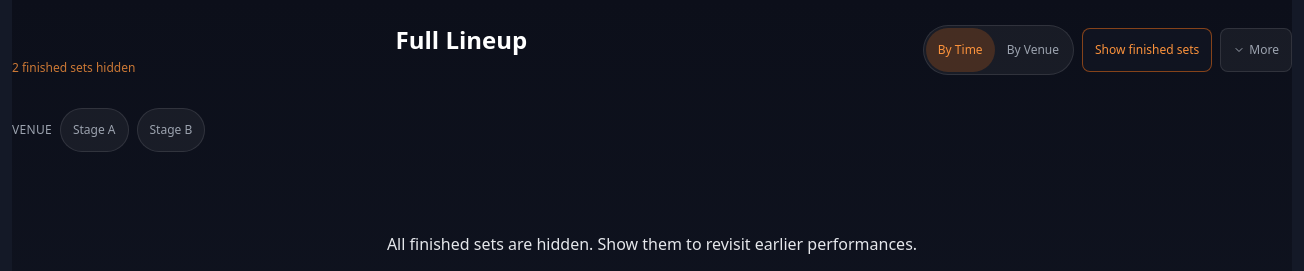
Test: ScheduleView — P2-F5: finishedCount respects venue filter › shows only the count of finished sets in the active venue when a venue filter is selected
Check: the text "2 finished sets hidden" is shown, box [12,59,135,76]
Note: Click Stage A filter
Click the button "Stage A" at (94, 130), box [60,108,128,152]
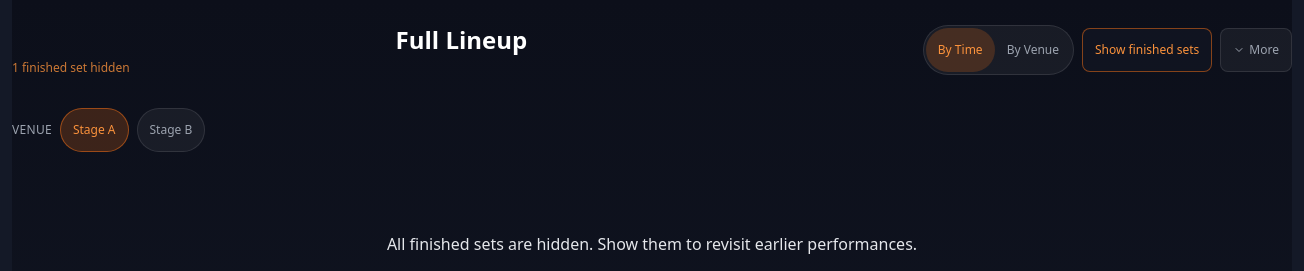
Check: the text "1 finished set hidden" is shown, box [12,59,130,76]
Check: the text "2 finished sets hidden" is gone
